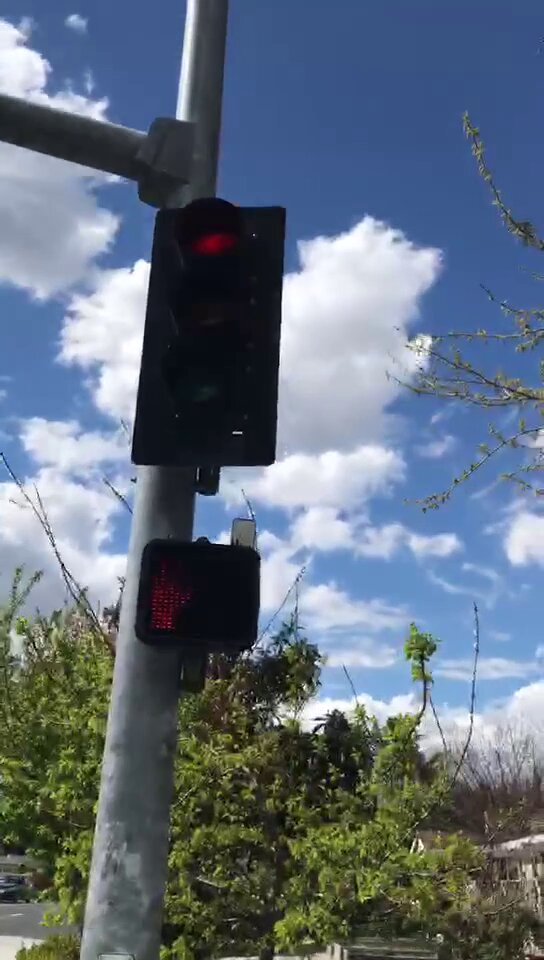red_light: (157, 209, 274, 463)
